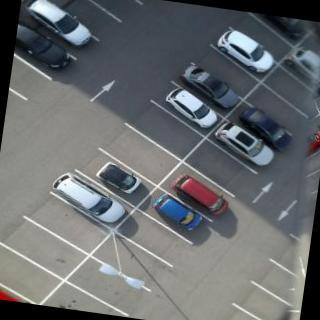car: (43, 167, 135, 226), (19, 1, 104, 55), (210, 117, 290, 171), (13, 18, 81, 76), (213, 21, 283, 77), (164, 167, 239, 219), (176, 57, 247, 111), (234, 102, 303, 154), (160, 83, 223, 133), (149, 191, 211, 233), (91, 159, 149, 196), (280, 43, 320, 89)
parking-space: (17, 184, 122, 261), (91, 114, 191, 193), (1, 212, 100, 289), (59, 249, 158, 320), (120, 95, 213, 170), (85, 225, 180, 297), (110, 203, 200, 272), (178, 133, 268, 201), (220, 10, 301, 72), (1, 239, 71, 309), (238, 80, 316, 140), (30, 1, 128, 48), (255, 61, 320, 119), (226, 274, 302, 320)
